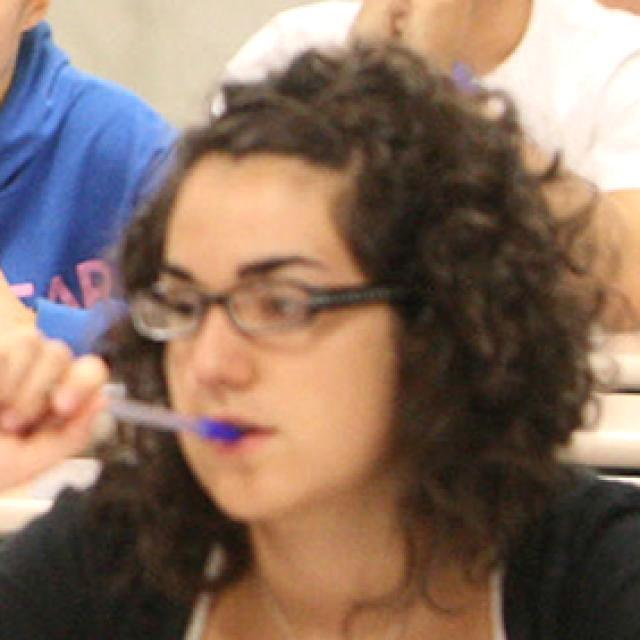Looking forward: (157, 154, 375, 526)
